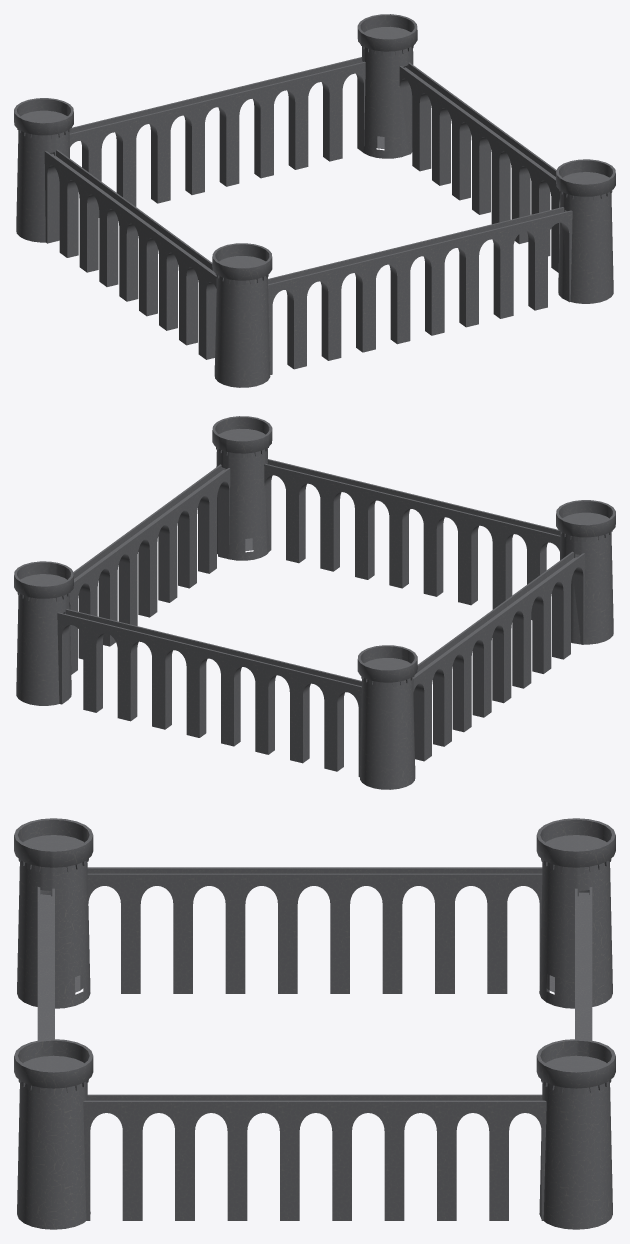
Rendered from field_winter_outsidewall2.fbx.
3 views of the same model, one above another, from view 1: azimuth 30°, elevation 25°; view 2: azimuth 150°, elevation 25°; view 3: azimuth 270°, elevation 25° (orthographic). The views are drawn at different scales.
Visible parts, largest first — view 1: field_winter_outsidewall2; view 2: field_winter_outsidewall2; view 3: field_winter_outsidewall2.
Part boxes in pixels (box(x1,y1,x2,y2)): field_winter_outsidewall2: box(14, 14, 615, 387); field_winter_outsidewall2: box(14, 416, 615, 789); field_winter_outsidewall2: box(14, 818, 615, 1229).
Size of the model in its own units: 7044 by 2045 by 7044.
Materials: 1 (1 with a texture image).
